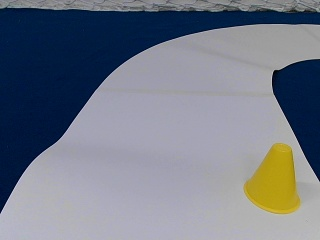cone: (244, 145, 303, 213)
